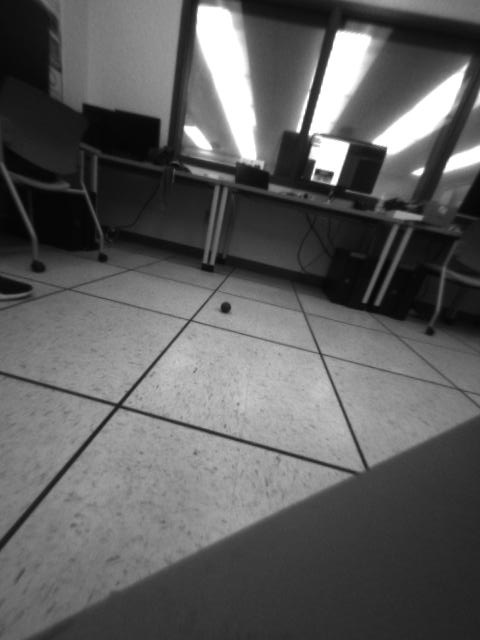dogtoy: (214, 295, 237, 316)
